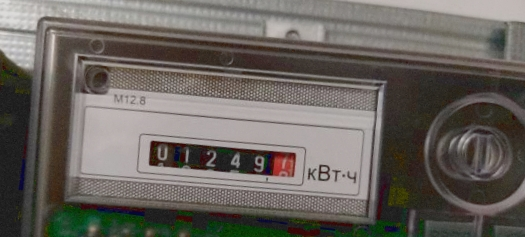0: (154, 140, 170, 162)
1: (179, 144, 191, 164)
2: (203, 147, 218, 168)
4: (228, 149, 241, 169)
7: (276, 150, 290, 170)
9: (250, 152, 266, 174)
screen: (127, 124, 306, 191)
